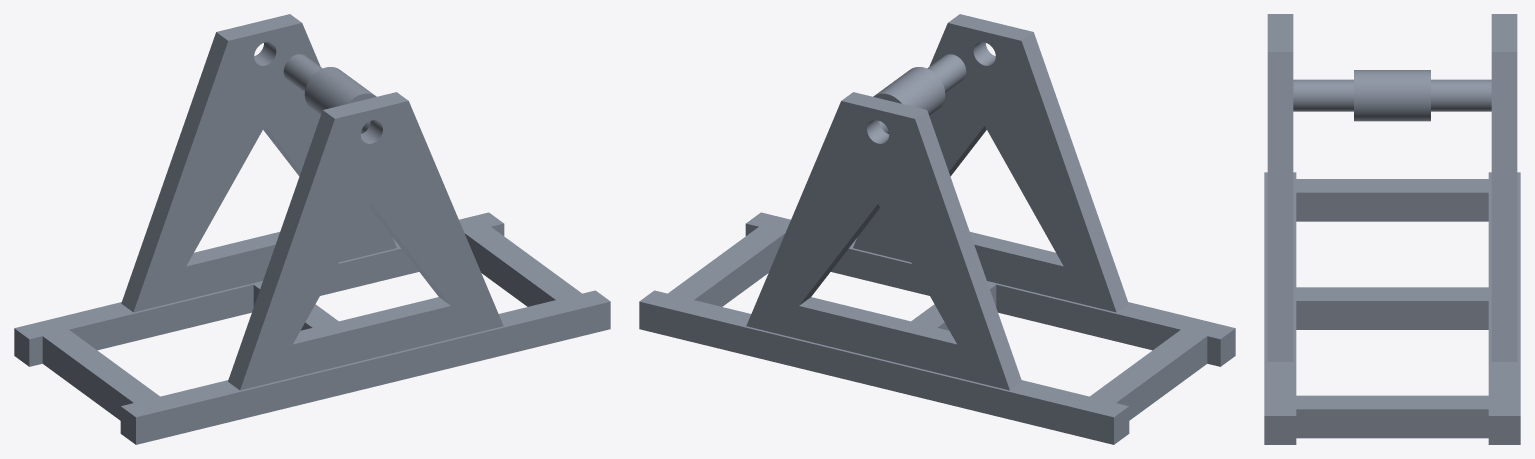
The model's file is step-5-preview-1.glb.
The picture shows the model from 3 angles, left to right: view 1: azimuth 30°, elevation 25°; view 2: azimuth 150°, elevation 25°; view 3: azimuth 270°, elevation 25°; orthographic projection. The views are drawn at different scales.
Visible parts, largest first — view 1: preview_34, preview_6, preview_25, preview_7, preview_36, preview_15, preview_8, preview_22, preview_41, preview_42, preview_0, preview_11 (+5 smaller); view 2: preview_43, preview_5, preview_31, preview_7, preview_38, preview_8, preview_15, preview_22, preview_39, preview_42, preview_0, preview_18 (+5 smaller); view 3: preview_7, preview_9, preview_16, preview_28, preview_35, preview_40, preview_0, preview_3, preview_4, preview_10, preview_17, preview_26 (+1 smaller).
Part boxes in pixels (x1,y1,x2,y2): preview_34: (240,101,503,390); preview_6: (133,23,396,312); preview_25: (136,301,610,444); preview_7: (14,212,610,417); preview_36: (69,284,253,350); preview_15: (121,32,228,312); preview_8: (228,110,334,389); preview_22: (42,336,133,420); preview_41: (320,248,418,295); preview_42: (464,233,555,306); preview_0: (304,67,373,115); preview_11: (293,297,450,344); preview_43: (746,101,1009,390); preview_5: (853,23,1116,312); preview_31: (639,301,1113,444); preview_7: (639,212,1235,417); preview_38: (996,284,1180,350); preview_8: (1021,32,1128,312); preview_15: (915,110,1021,389); preview_22: (1116,336,1207,420); preview_39: (831,248,929,295); preview_42: (694,233,785,306); preview_0: (876,67,945,115); preview_18: (799,297,956,344); preview_7: (1264,172,1520,415); preview_9: (1267,52,1293,361); preview_16: (1491,52,1517,361); preview_28: (1296,409,1488,438); preview_35: (1296,192,1488,221); preview_40: (1296,301,1488,329); preview_0: (1354,70,1430,121); preview_3: (1293,79,1353,111); preview_4: (1431,79,1491,111); preview_10: (1267,14,1293,51); preview_17: (1491,14,1517,51); preview_26: (1264,416,1296,444).
Size of the model in its own units: 0.18 by 0.1 by 0.08.
